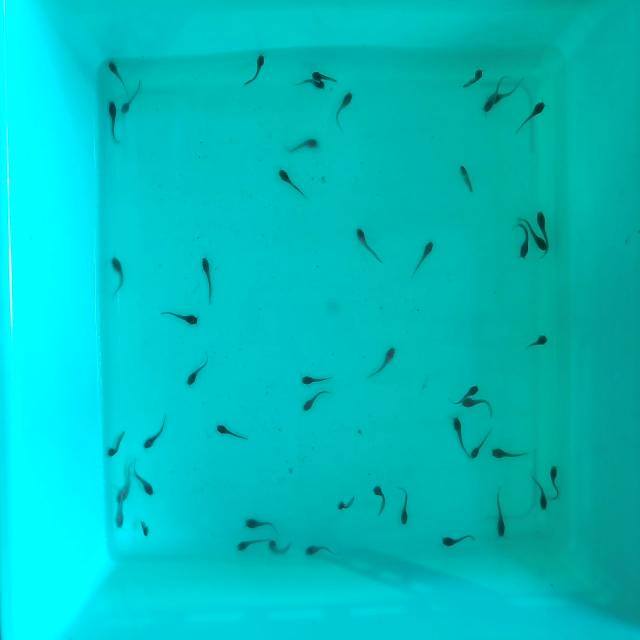lele: (486, 75, 527, 112), (512, 98, 550, 136), (351, 228, 385, 268), (516, 214, 550, 253), (126, 457, 156, 497), (480, 73, 510, 113), (368, 343, 400, 379), (141, 412, 171, 450), (184, 352, 213, 390), (276, 164, 308, 198), (409, 240, 437, 278), (120, 79, 145, 117), (332, 89, 356, 128), (452, 414, 472, 460), (240, 55, 266, 90), (469, 427, 496, 460), (106, 60, 130, 94), (200, 256, 217, 304), (161, 308, 201, 328), (450, 382, 483, 406), (216, 420, 250, 443), (302, 388, 332, 414), (106, 429, 129, 460), (494, 486, 508, 536), (110, 254, 126, 297), (530, 475, 549, 511), (461, 66, 487, 92), (234, 534, 270, 552), (123, 456, 138, 498), (534, 210, 550, 249), (461, 397, 494, 414), (522, 332, 550, 352), (288, 137, 319, 155), (107, 100, 120, 142), (458, 163, 475, 195), (371, 482, 388, 513), (242, 518, 274, 534), (310, 67, 338, 85), (441, 534, 474, 549), (397, 486, 409, 527), (303, 543, 336, 557), (492, 449, 530, 461), (520, 221, 531, 262), (116, 489, 126, 530), (337, 494, 359, 512), (302, 372, 334, 384), (549, 465, 560, 499), (268, 540, 293, 554), (312, 76, 328, 92), (138, 520, 150, 540)
